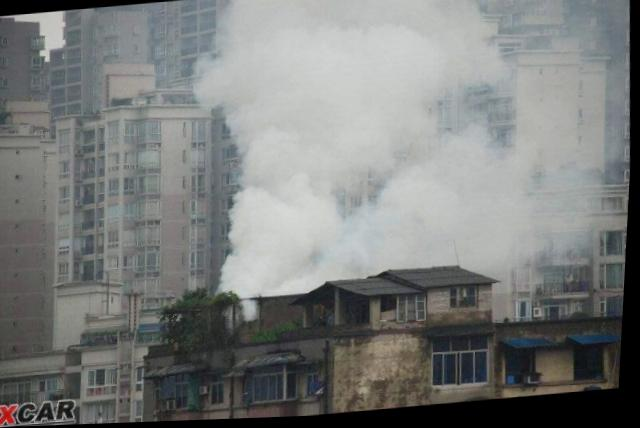smoke: (301, 85, 594, 285), (289, 0, 514, 107), (217, 104, 315, 297), (190, 0, 299, 112)
